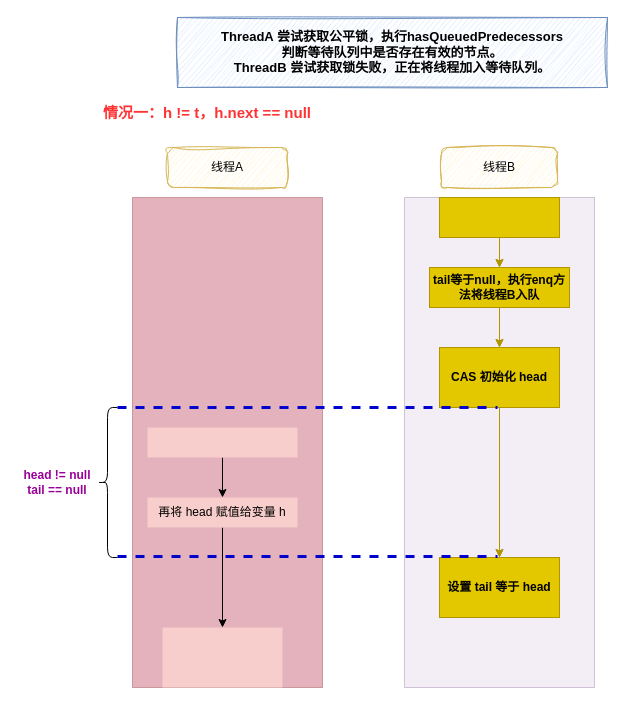
The diagram is 625 pixels wide and 705 high, and some of its shapes have lost their labels. Here are the shapes that lost their labels. From the top down, the centre of each, then its label:
the point at 499,217: tryAcquire尝试失败
the point at 222,442: 先将 tail 赋值给变量 t
the point at 222,657: h.next 等于 null
